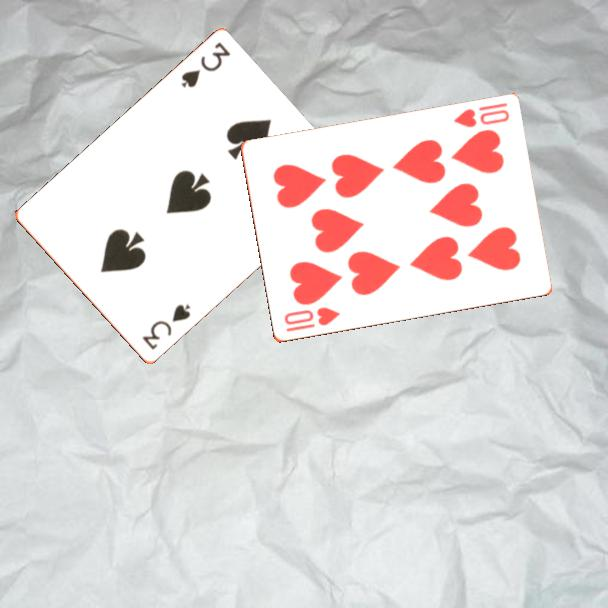h10: (450, 99, 512, 131), (280, 304, 343, 335)
s03: (177, 39, 234, 91), (138, 301, 193, 353)
